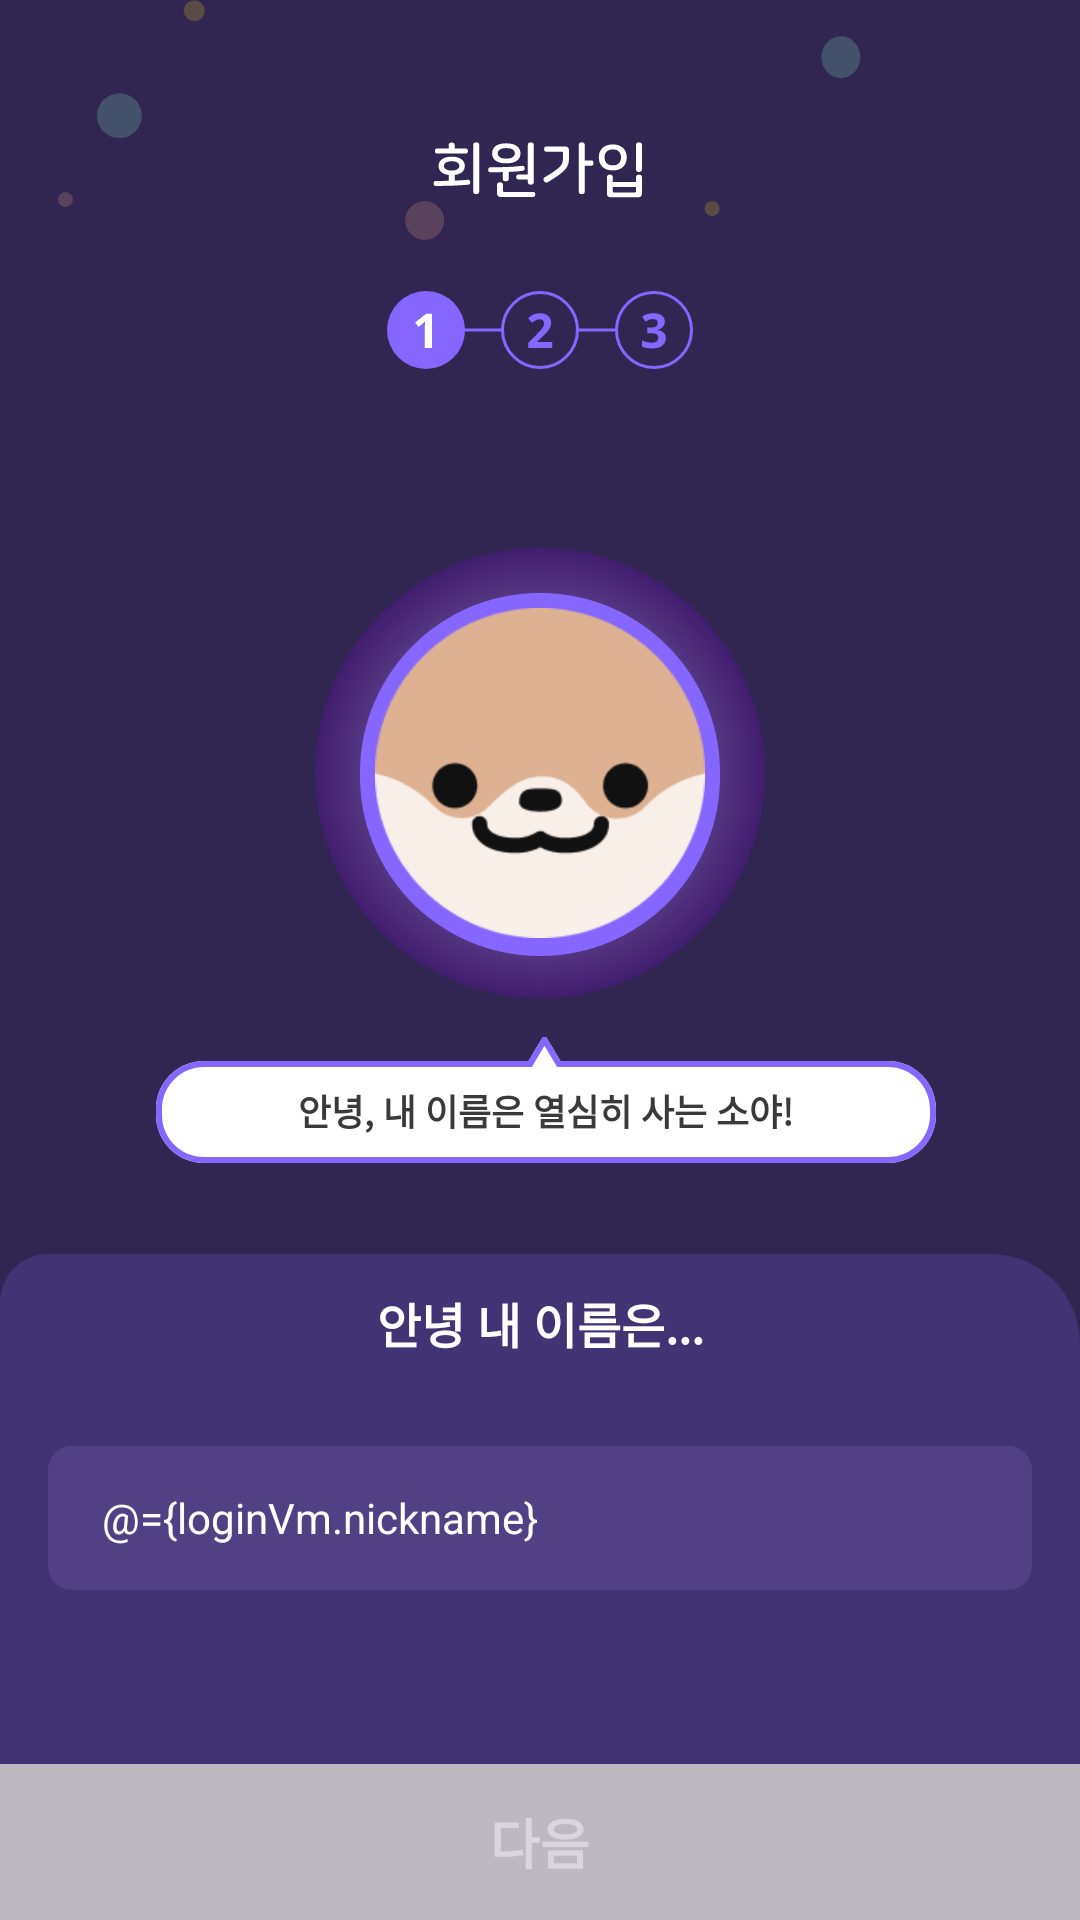

Screen size 1080px x 1920px. Icon name, then its box in pixels as bbox=[x1, y1, x2, y2]:
step: bbox=[387, 291, 693, 369]
